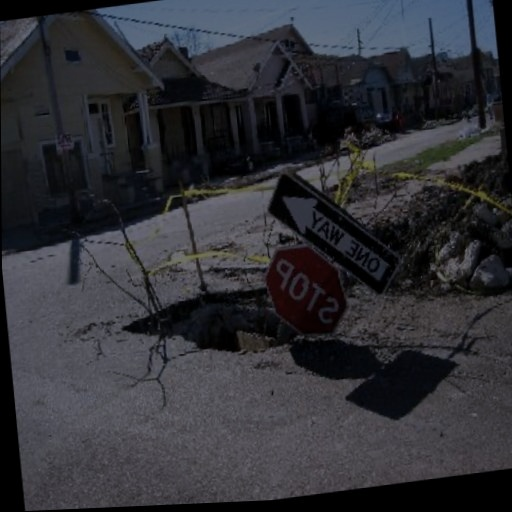pothole: (116, 270, 308, 372)
